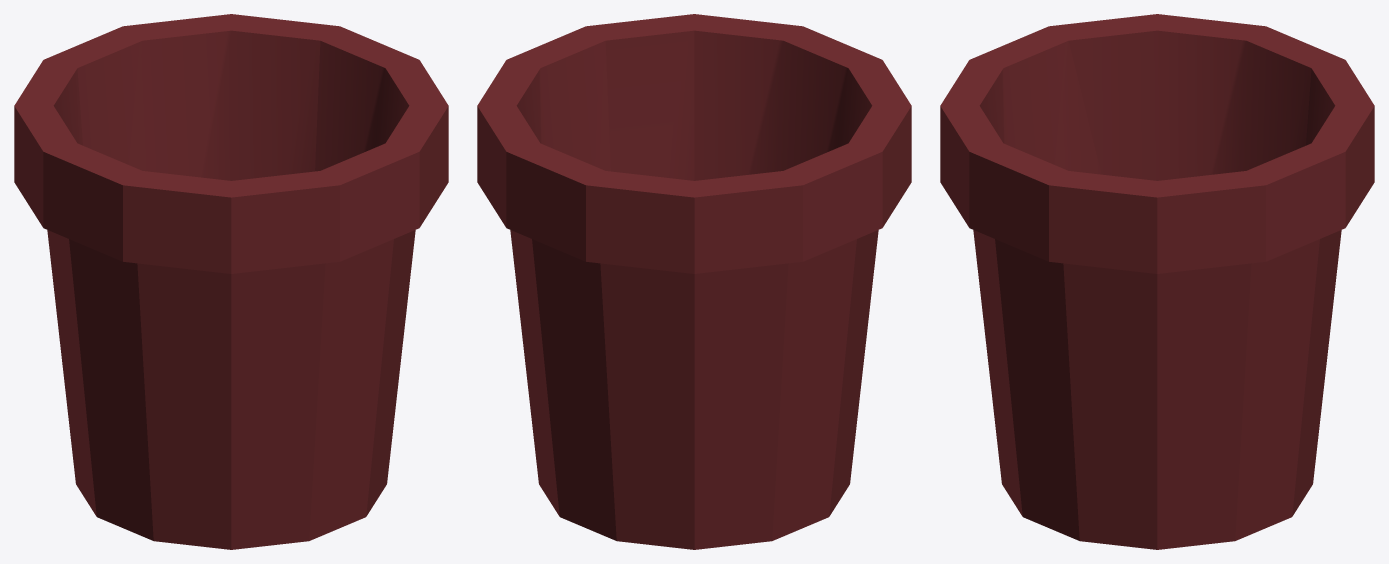
The model's file is potted plant_empty.fbx.
3 renders of one model, left to right at view 1: azimuth 30°, elevation 25°; view 2: azimuth 150°, elevation 25°; view 3: azimuth 270°, elevation 25°, orthographic.
Parts seen in each view (by area): view 1: empty_pot; view 2: empty_pot; view 3: empty_pot.
Boxes of the visible parts, bbox=[...] form: empty_pot: bbox=[14, 14, 448, 549]; empty_pot: bbox=[477, 14, 911, 549]; empty_pot: bbox=[940, 14, 1374, 549].
Size of the model in its own units: 85.34 by 82.03 by 85.34.
